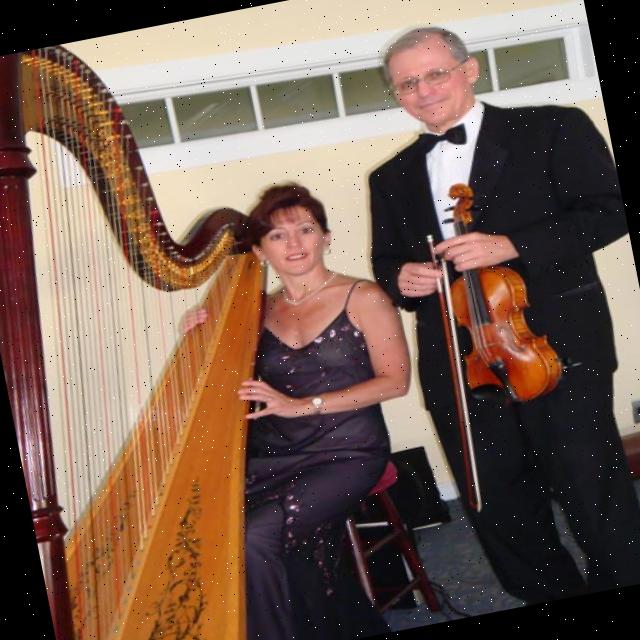harp: (0, 11, 353, 640)
violin: (418, 164, 576, 418)
